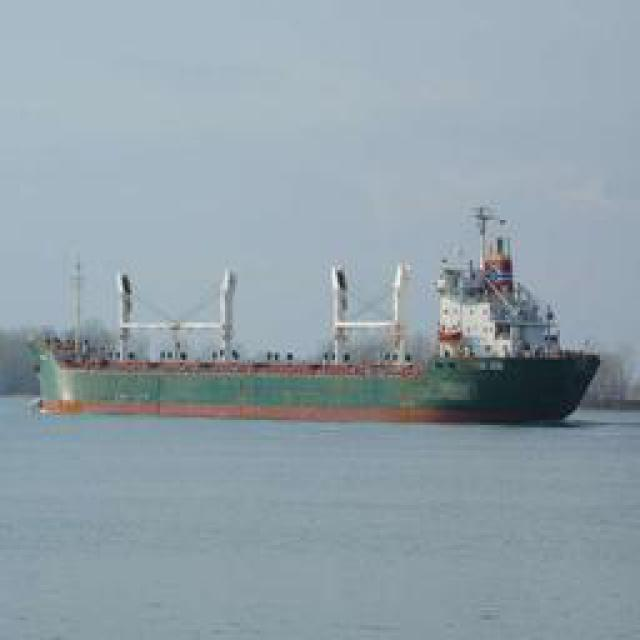Ship: (315, 206, 605, 421)
